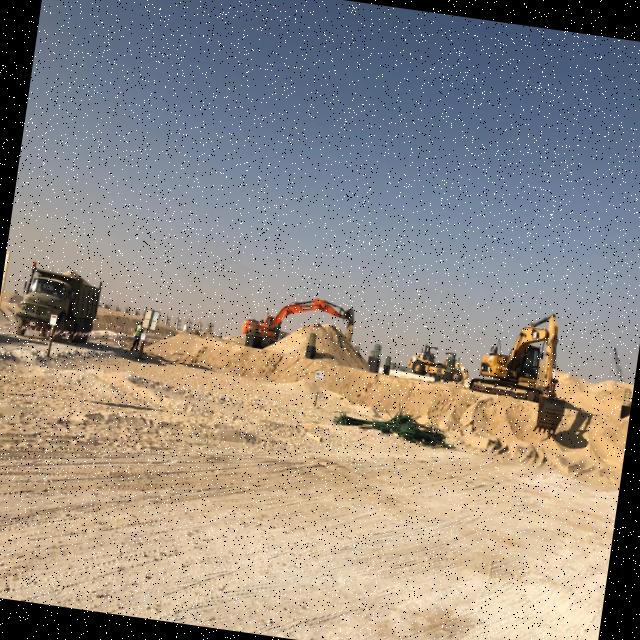Dump Truck: (10, 254, 109, 354)
Excavator: (461, 300, 576, 436), (235, 284, 363, 372)
